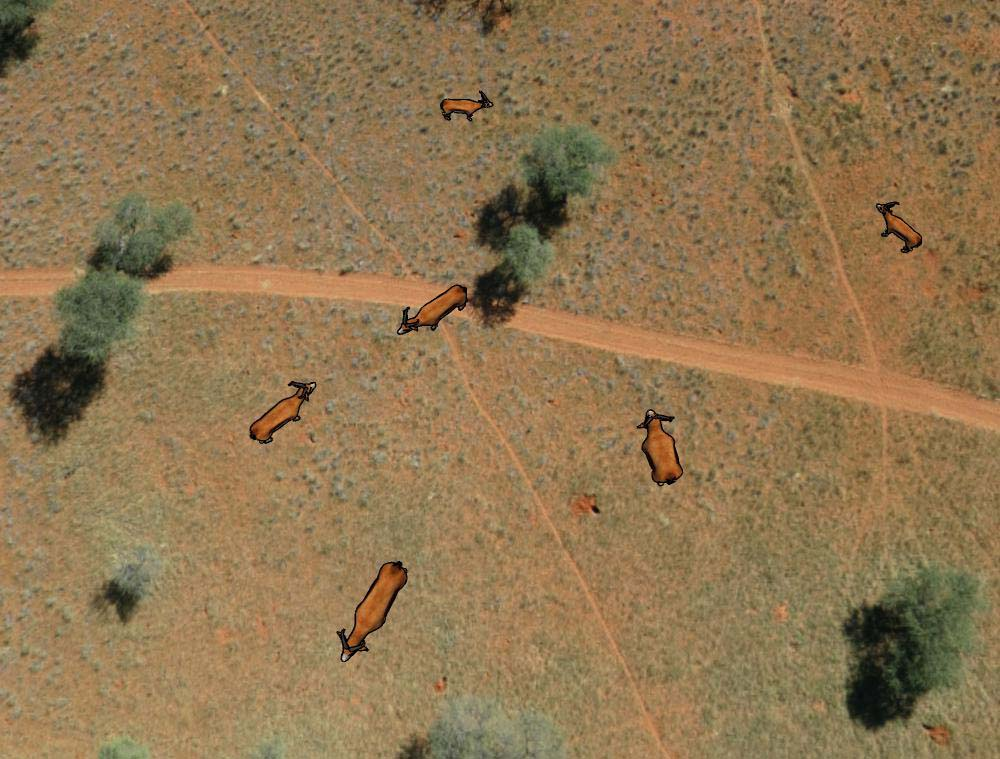springbok: (333, 556, 412, 665), (250, 374, 317, 448), (633, 405, 687, 491), (398, 278, 469, 338), (868, 196, 927, 256), (434, 86, 496, 125)
